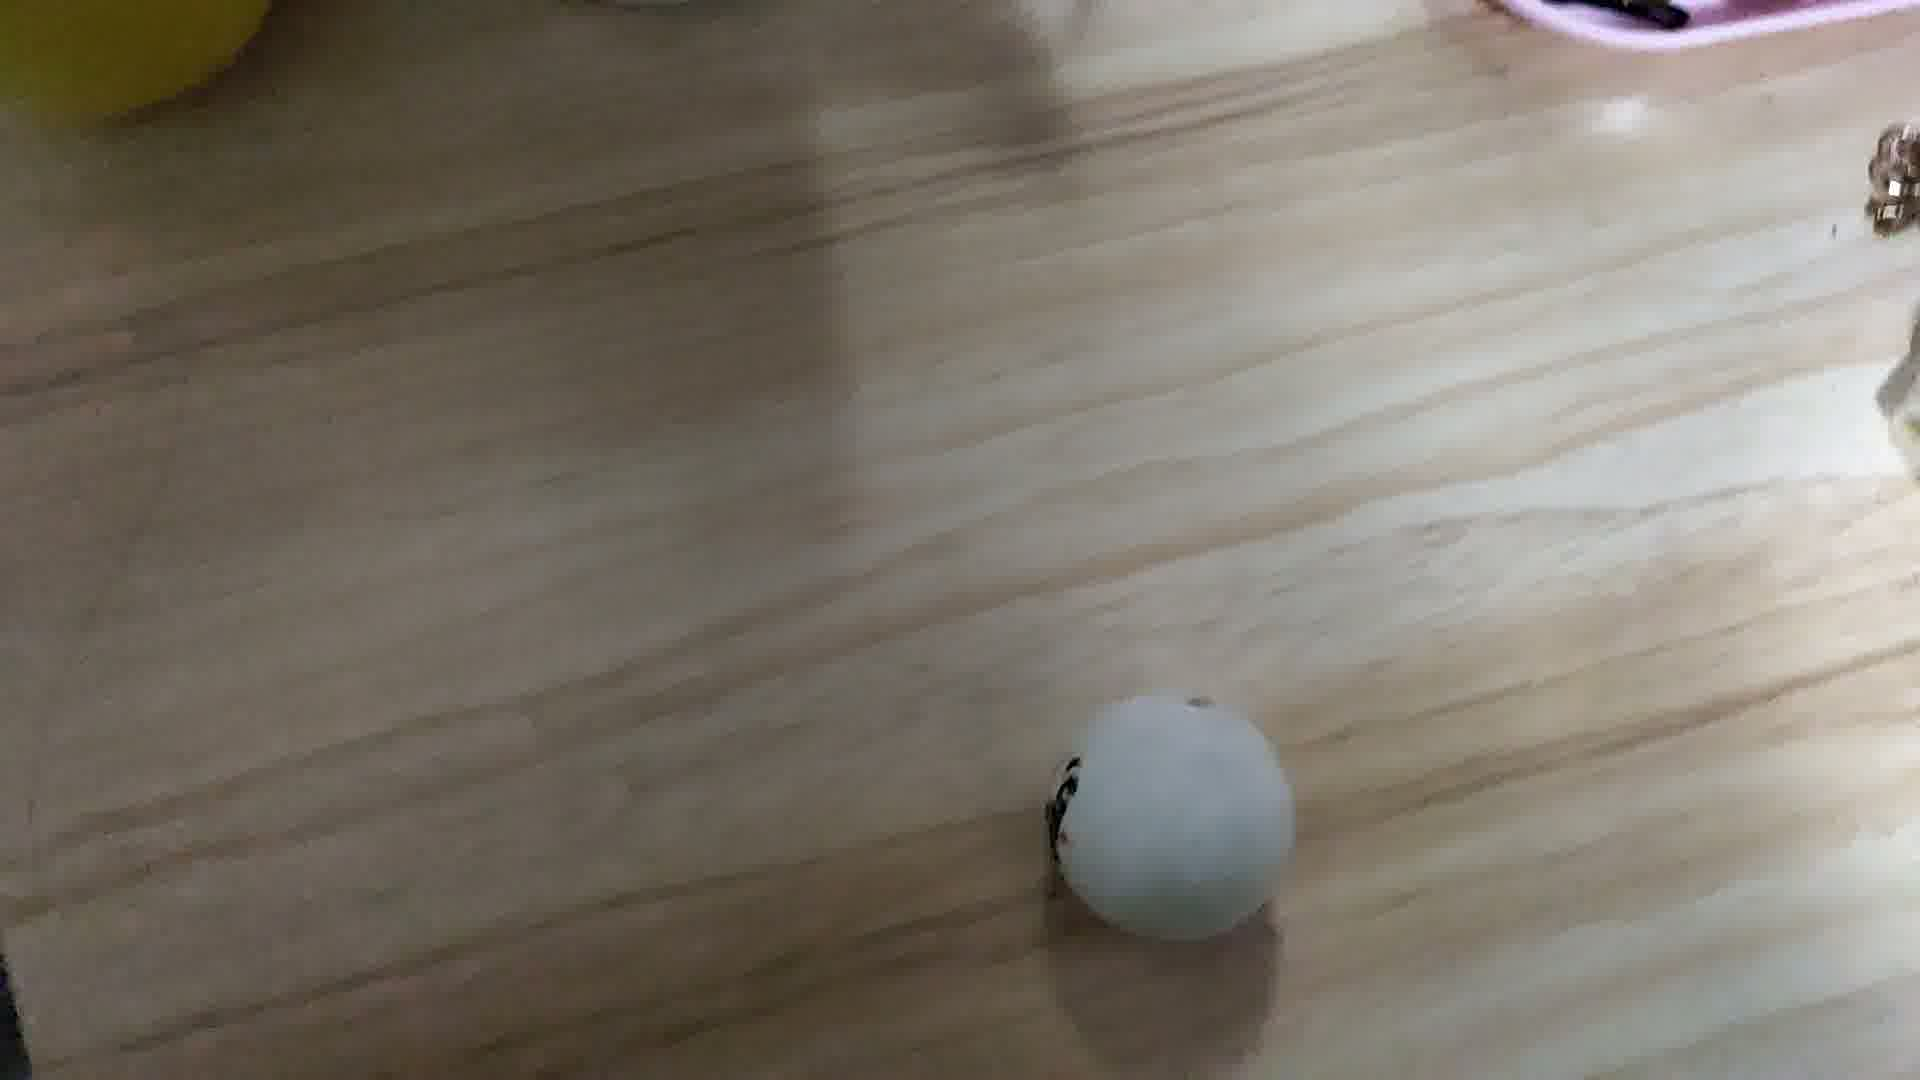Ball: (1051, 692, 1296, 949)
